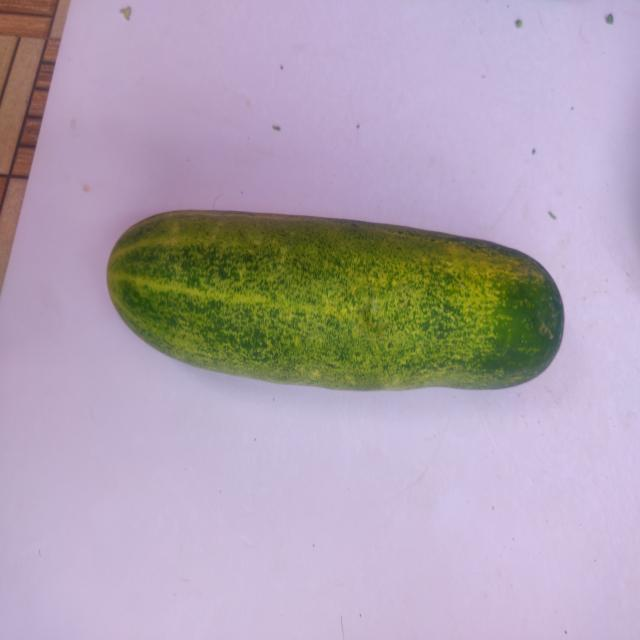Cucumber: (88, 184, 576, 432)
